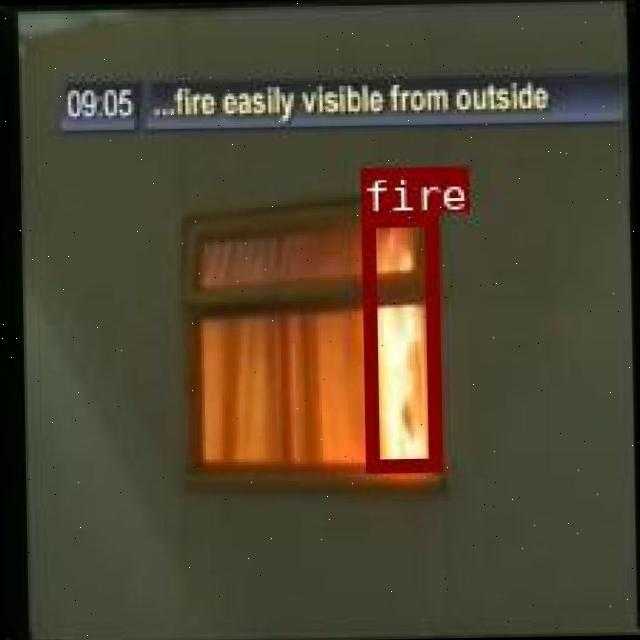fire: (360, 210, 438, 470)
